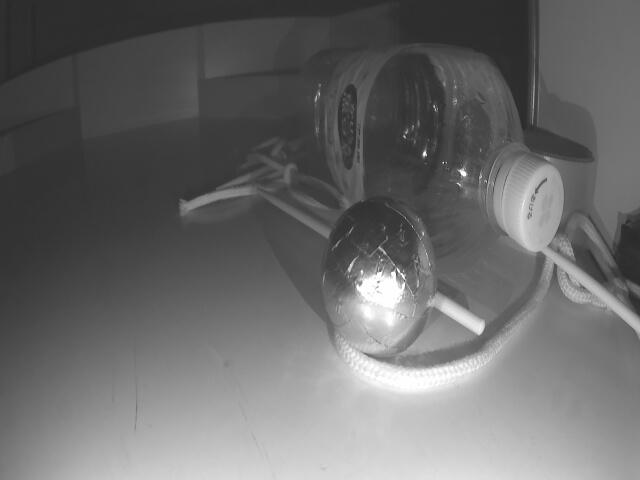Live: (318, 194, 442, 365)
Point: (198, 70, 310, 121), (0, 103, 76, 175)
